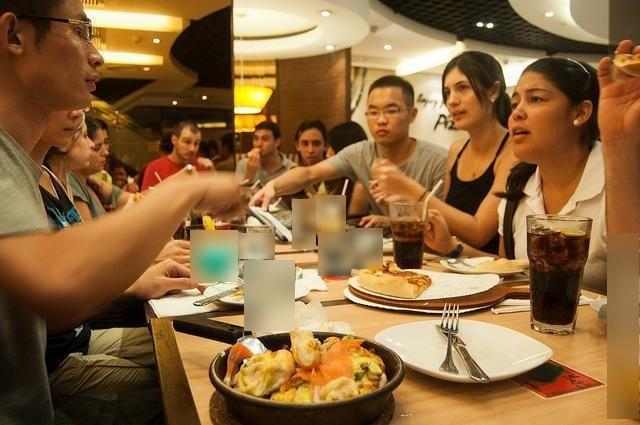glass-normal: (524, 208, 594, 334), (389, 200, 427, 269)
